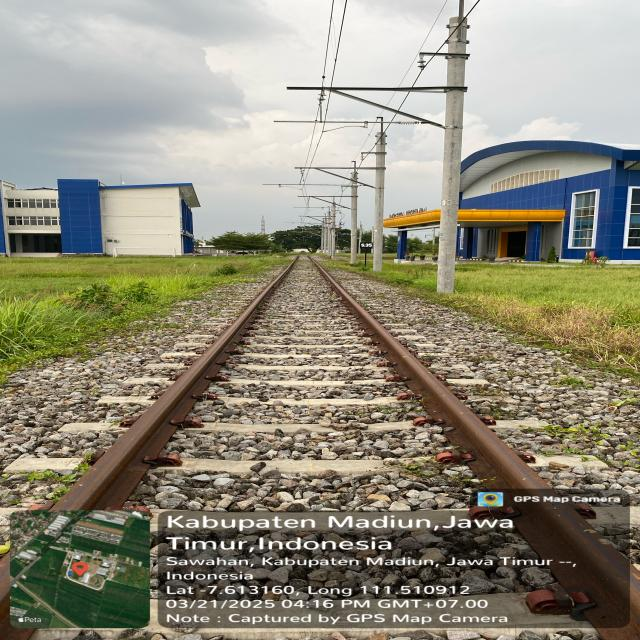rail-detection: (308, 255, 640, 640), (52, 254, 299, 510)
